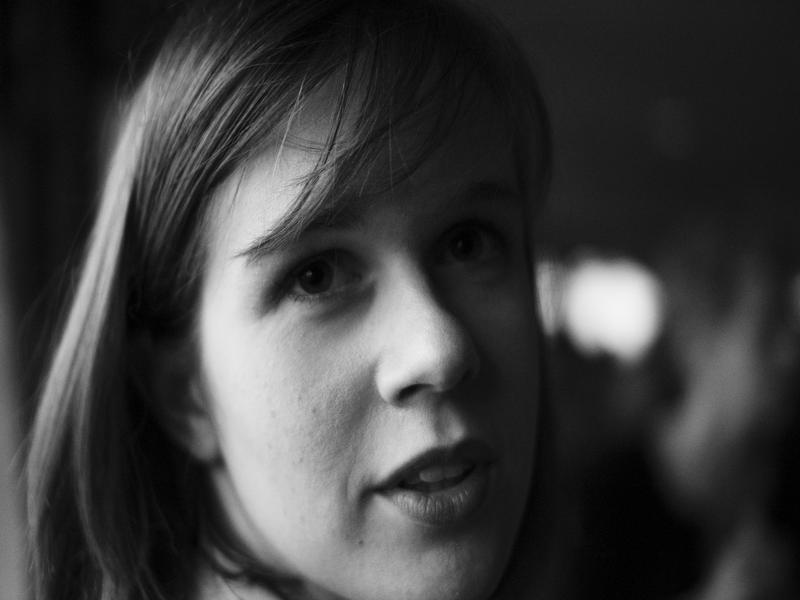person: (71, 1, 558, 600)
